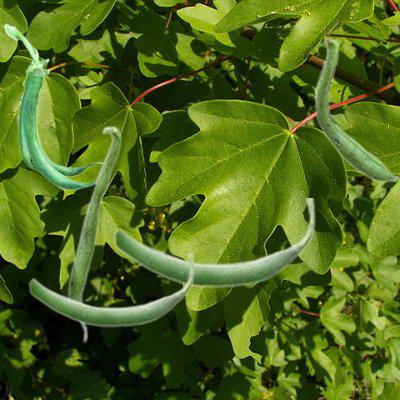french_bean: (113, 198, 315, 288), (3, 23, 101, 189), (28, 253, 194, 327), (314, 36, 398, 182), (67, 125, 121, 343)
